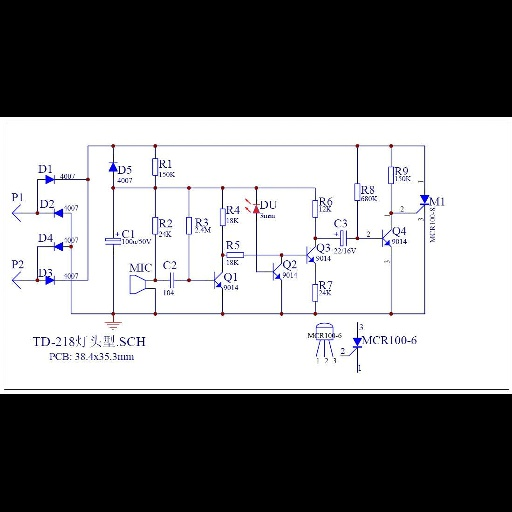capacitor: (165, 272, 179, 289)
firstdiode: (44, 174, 57, 187), (107, 160, 119, 174), (52, 241, 65, 253), (53, 208, 65, 220), (45, 276, 57, 287)
firstresistance: (223, 250, 249, 259), (385, 163, 395, 186), (310, 198, 319, 221), (150, 215, 159, 237), (184, 215, 193, 237), (218, 206, 227, 228), (310, 282, 319, 304), (352, 181, 361, 203), (150, 156, 159, 177)
gnd: (103, 321, 124, 330)
npn: (301, 243, 317, 267), (268, 260, 283, 285), (208, 269, 224, 291), (379, 227, 393, 251)
secondpolarcapacitor: (102, 229, 120, 250), (333, 228, 350, 247)
